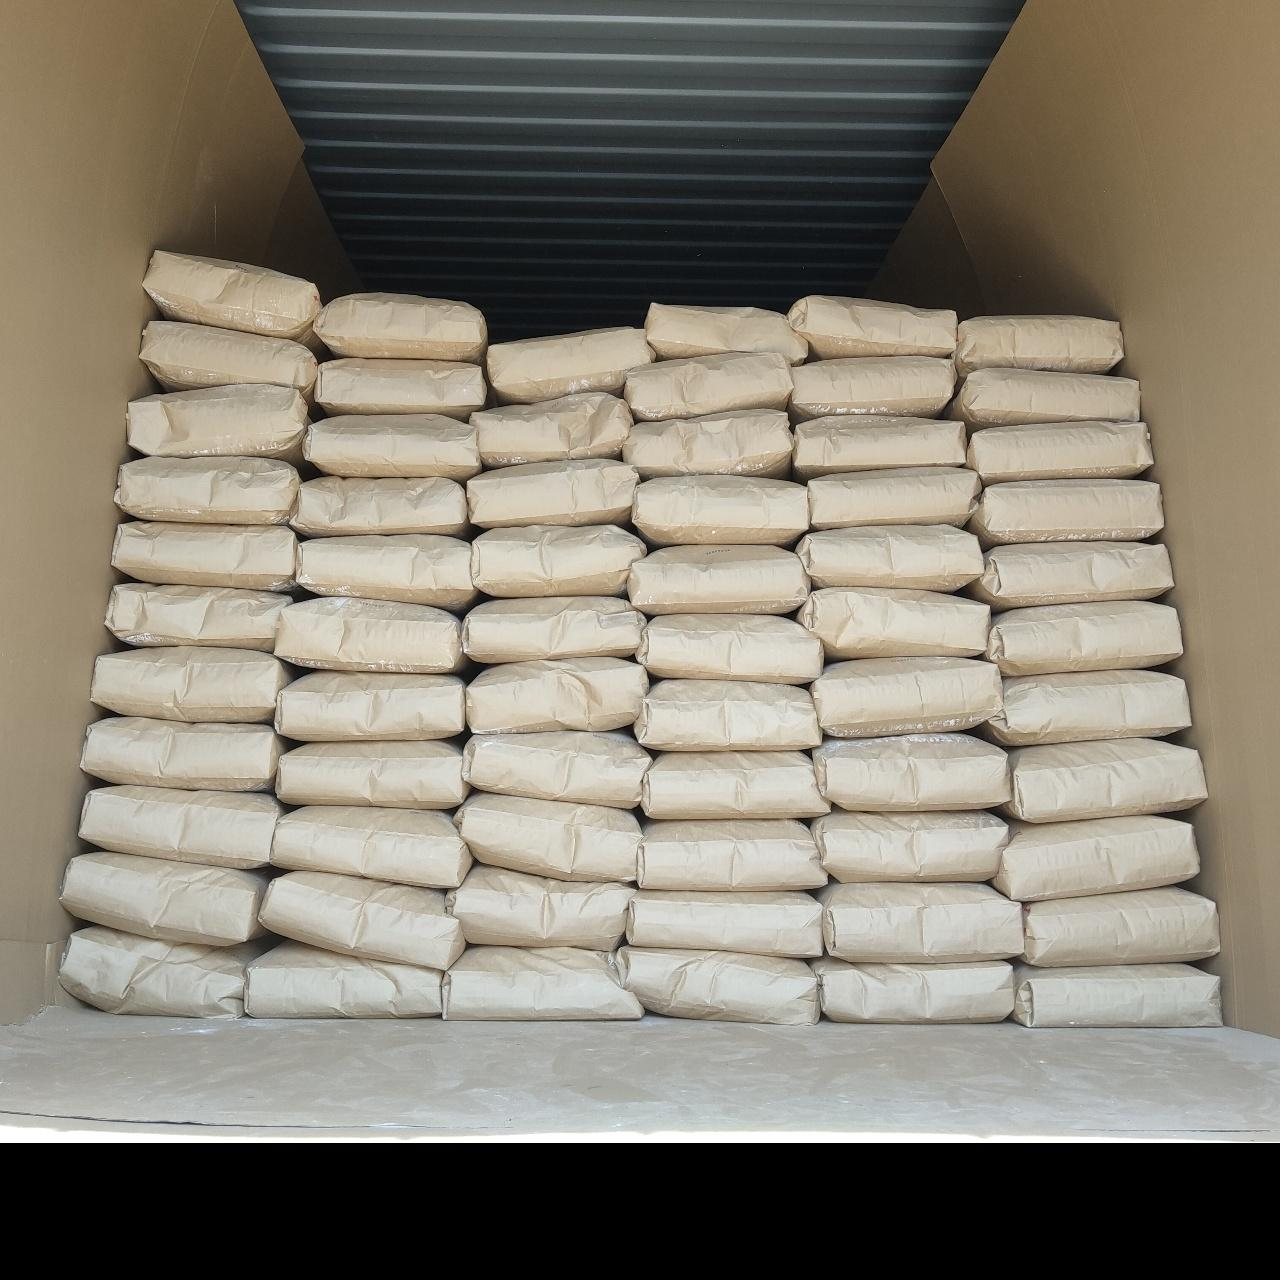sack: (263, 872, 462, 966), (64, 852, 268, 942), (62, 926, 264, 1014), (1002, 740, 1204, 822), (82, 787, 282, 869), (996, 818, 1196, 900), (147, 250, 318, 342), (274, 808, 470, 886), (617, 946, 818, 1022), (456, 794, 638, 878), (450, 864, 632, 948), (983, 672, 1190, 744), (821, 884, 1022, 958), (1024, 888, 1218, 964), (84, 719, 286, 790), (813, 734, 1010, 806), (812, 658, 998, 734), (91, 648, 292, 719), (986, 602, 1182, 674), (246, 942, 440, 1014), (128, 386, 308, 462), (278, 598, 464, 670), (444, 948, 640, 1017), (971, 542, 1172, 608), (467, 731, 646, 806), (798, 588, 990, 658), (467, 658, 646, 731), (298, 536, 476, 610), (812, 812, 1006, 880), (626, 890, 822, 956), (636, 680, 821, 750), (638, 614, 822, 685), (275, 672, 464, 740), (105, 583, 288, 651), (1014, 964, 1218, 1024), (813, 958, 1012, 1020), (114, 522, 294, 590), (278, 742, 468, 806), (638, 821, 824, 886), (142, 322, 318, 392), (642, 753, 828, 818), (971, 481, 1162, 544), (472, 526, 646, 595), (464, 595, 644, 662), (472, 392, 629, 467), (488, 328, 654, 399), (628, 546, 806, 612), (116, 458, 298, 522), (798, 526, 980, 590), (468, 459, 638, 526), (624, 410, 790, 478), (632, 478, 806, 542), (314, 294, 486, 358), (968, 422, 1150, 482), (304, 416, 478, 478), (949, 370, 1138, 428), (626, 354, 790, 420), (790, 358, 956, 420), (794, 416, 966, 476), (788, 297, 956, 358), (808, 468, 980, 526), (646, 304, 806, 366), (294, 478, 468, 535), (314, 360, 486, 416), (954, 318, 1122, 374)
